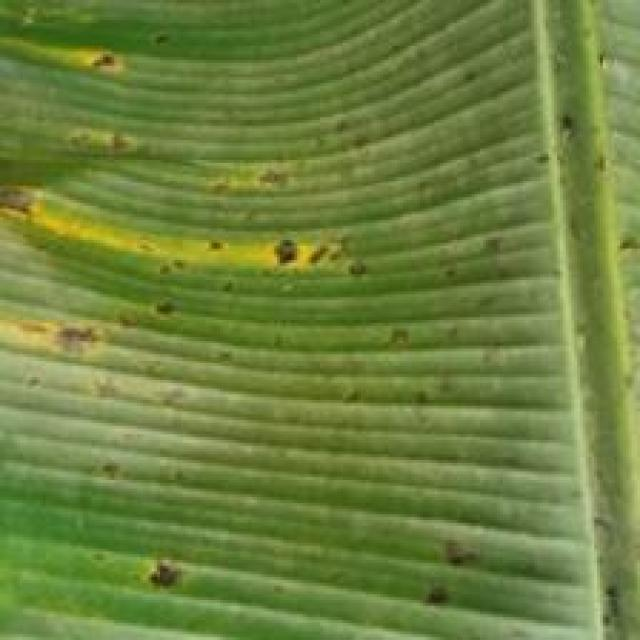Downey_mildrew: (0, 118, 380, 416), (8, 8, 184, 104), (379, 513, 508, 612), (117, 513, 185, 618)
